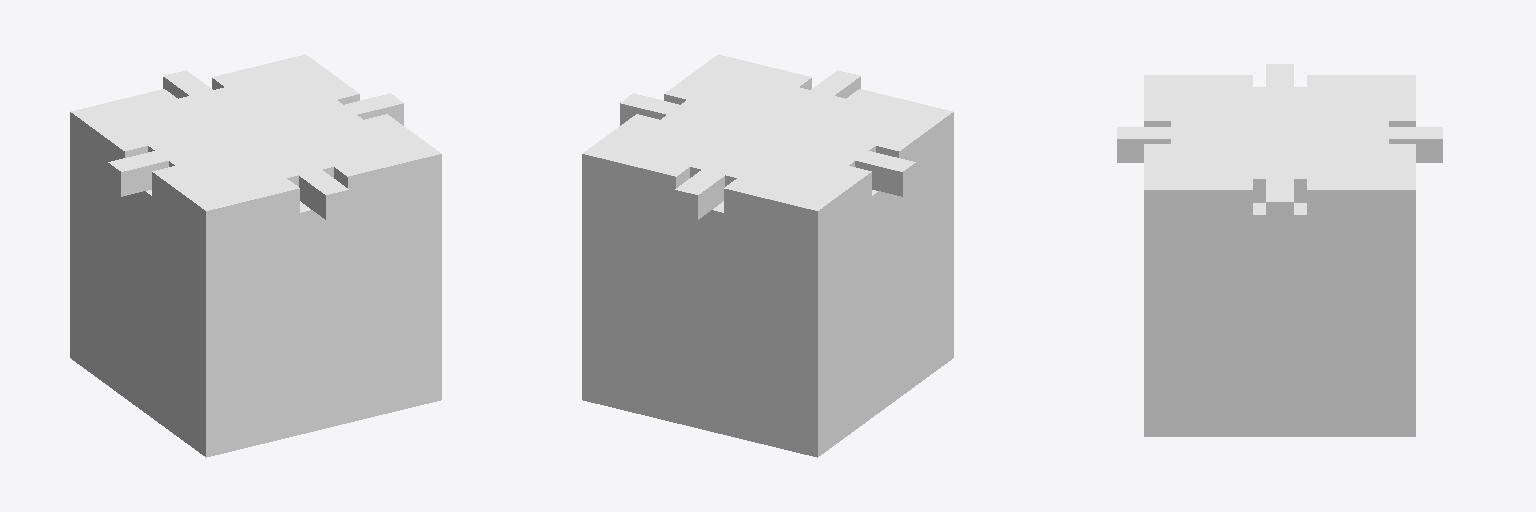
File: Ground3TurretPlacement.obj
3 renders of one model, left to right at view 1: azimuth 30°, elevation 25°; view 2: azimuth 150°, elevation 25°; view 3: azimuth 270°, elevation 25°, orthographic.
Parts seen in each view (by area): view 1: object 1; view 2: object 1; view 3: object 1.
Boxes of the visible parts, <box> form: object 1: <box>70,54,441,457</box>; object 1: <box>582,54,953,457</box>; object 1: <box>1117,64,1442,436</box>.
Bounding box in the file's own units: 2.4 × 2 × 2.4.